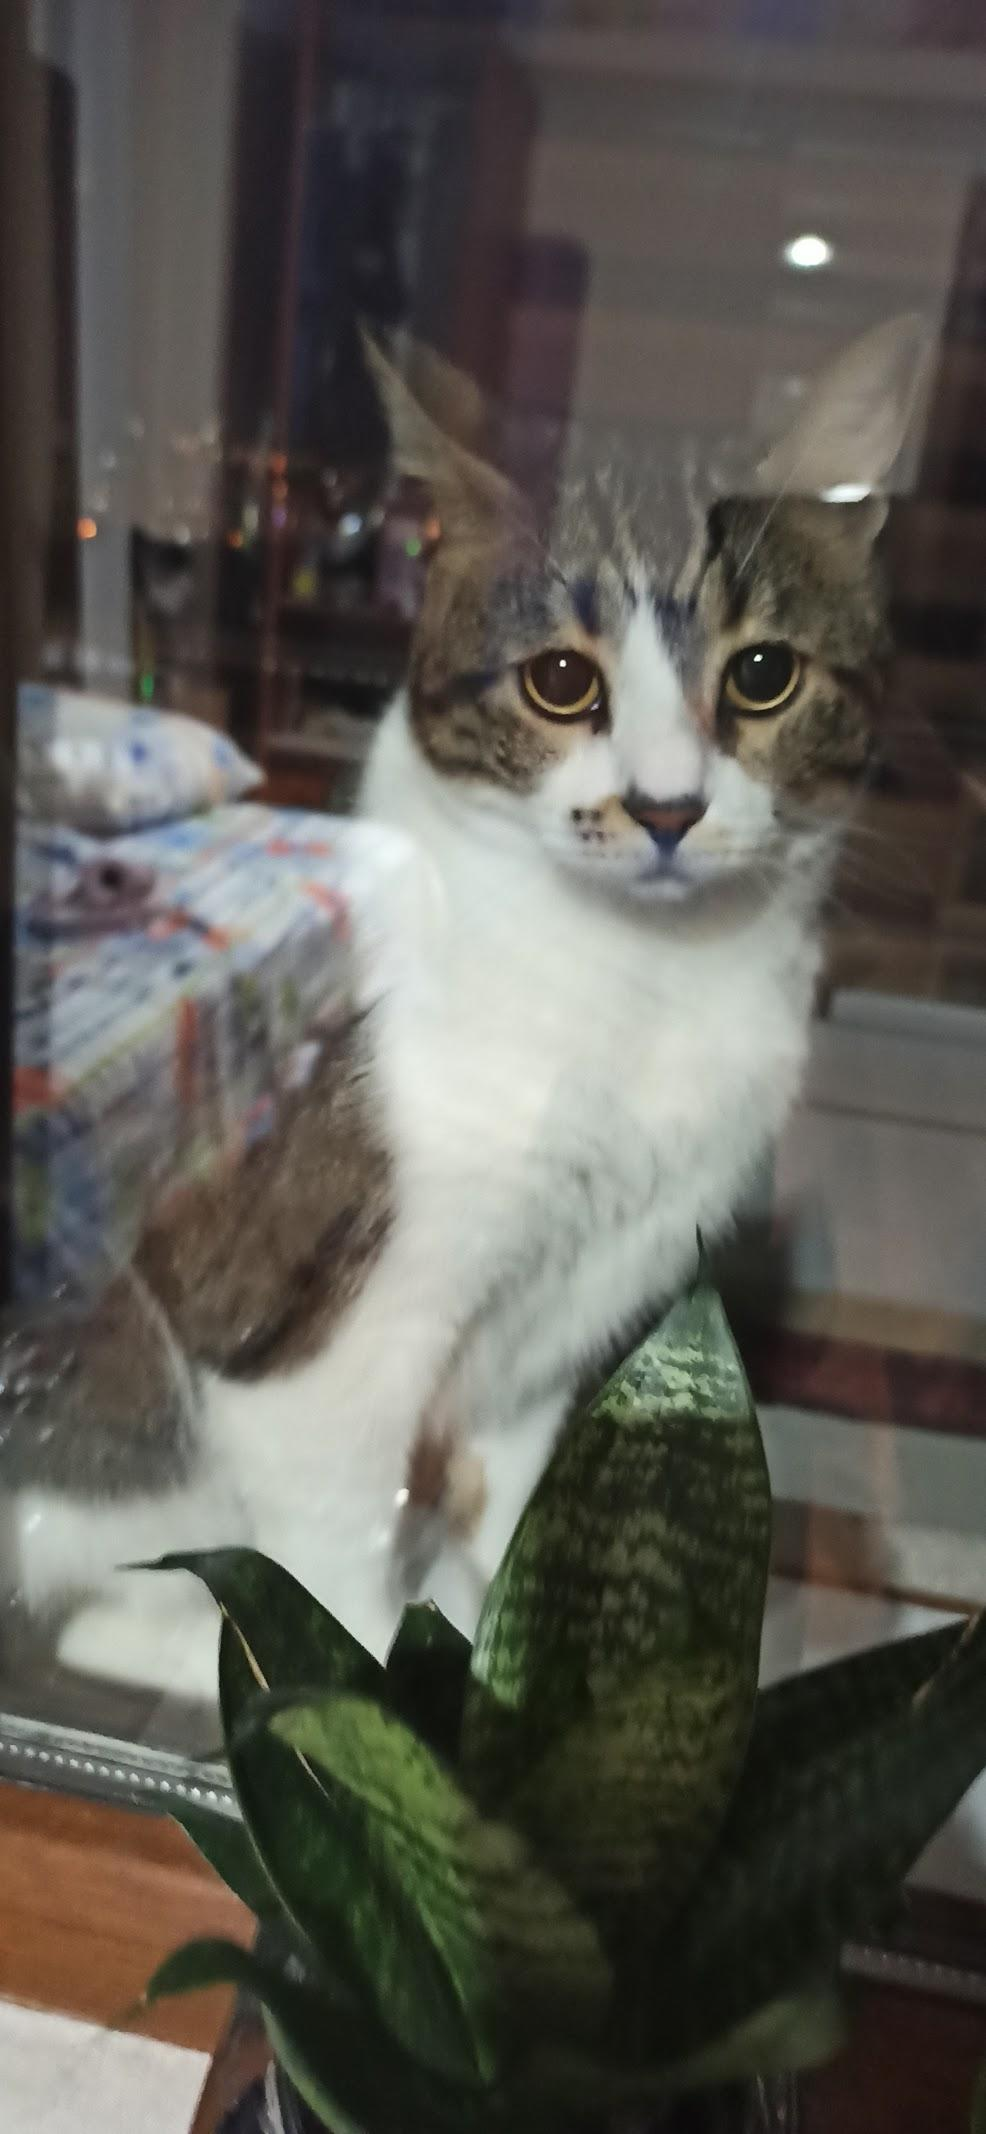kedo: (3, 303, 893, 1248)
